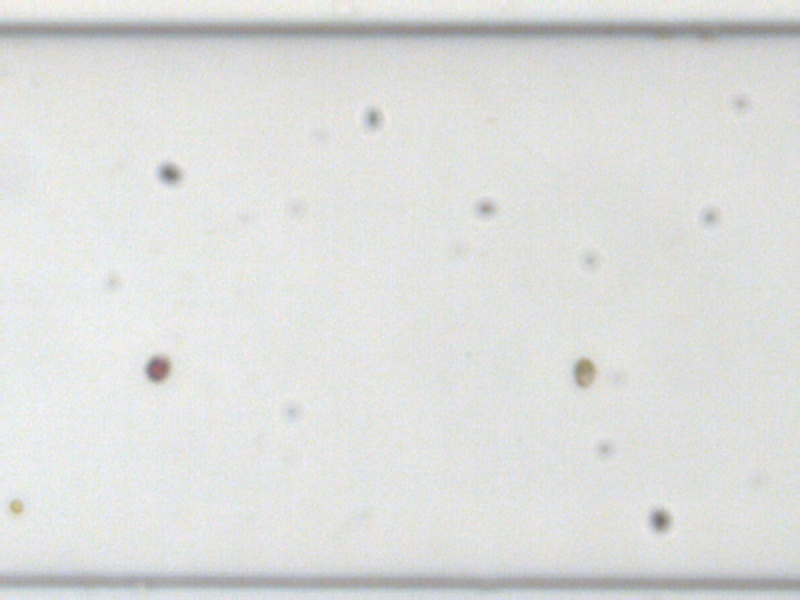Chlorella: (6, 496, 25, 514)
Dunaliella salina: (571, 354, 597, 389)
Porphyridium: (142, 352, 171, 382)
